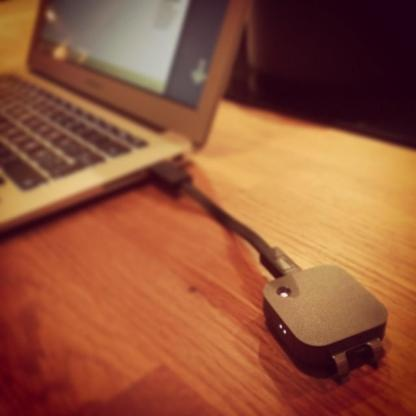board: (0, 0, 250, 253)
